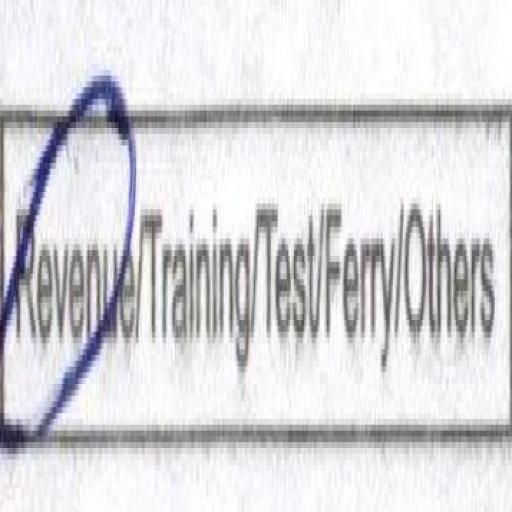check: (1, 41, 143, 512)
